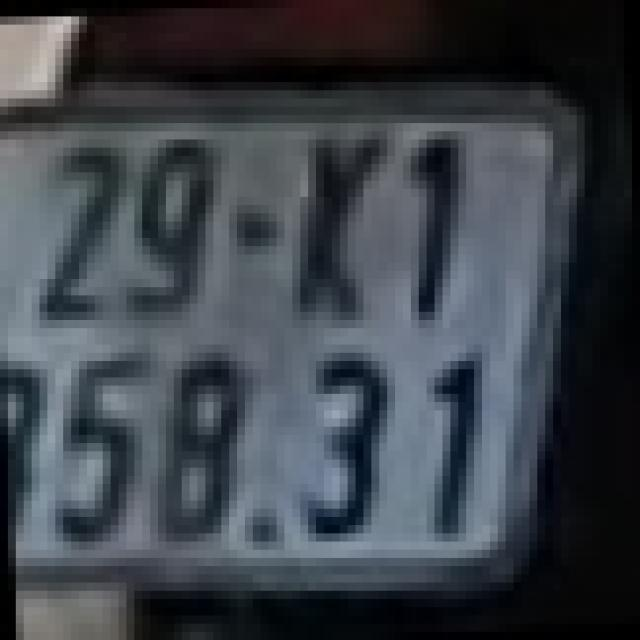1: (403, 131, 466, 320), (427, 353, 482, 541)
2: (32, 139, 126, 320)
3: (300, 353, 387, 541)
5: (56, 353, 142, 541)
8: (158, 353, 237, 541)
9: (126, 139, 214, 320)
K: (292, 123, 380, 320)
